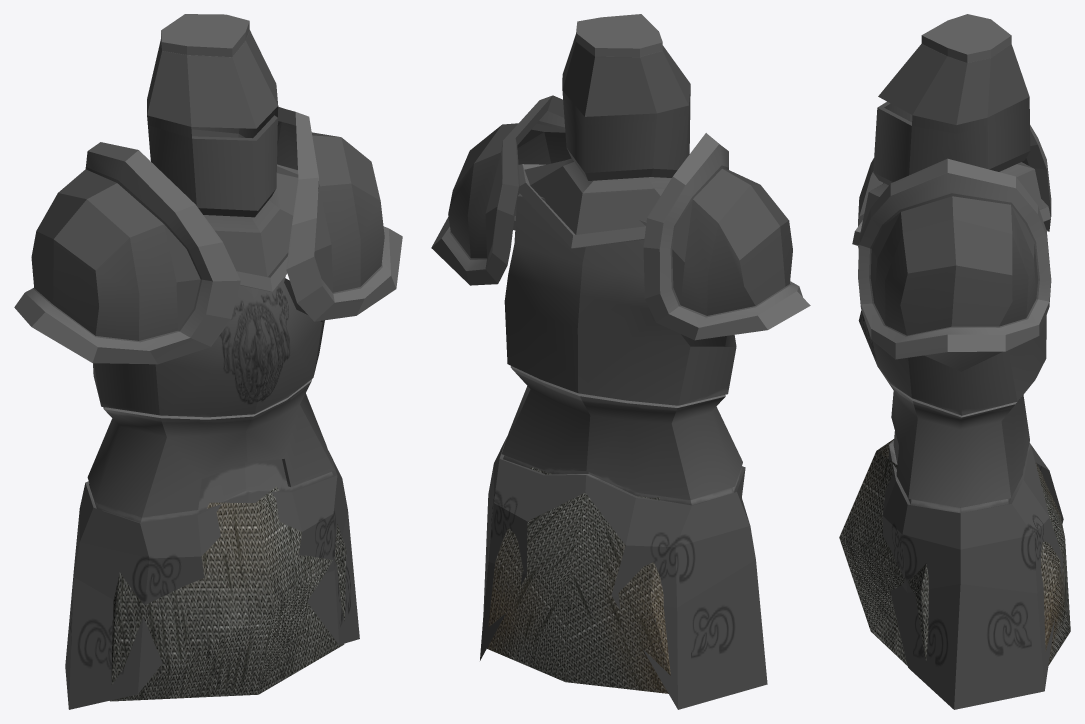
Rendered from Suit of Armour.fbx.
3 renders of one model, left to right at view 1: azimuth 30°, elevation 25°; view 2: azimuth 150°, elevation 25°; view 3: azimuth 270°, elevation 25°, orthographic. The views are drawn at different scales.
Visible parts, largest first — view 1: group5_Armour_Right_Shoulder_Pad; view 2: group5_Armour_Right_Shoulder_Pad; view 3: group5_Armour_Right_Shoulder_Pad.
Part boxes in pixels (x1,y1,x2,y2): group5_Armour_Right_Shoulder_Pad: [14, 14, 402, 709]; group5_Armour_Right_Shoulder_Pad: [431, 14, 810, 709]; group5_Armour_Right_Shoulder_Pad: [839, 14, 1070, 709].
Size of the model in its own units: 15.71 by 25.89 by 8.92.
